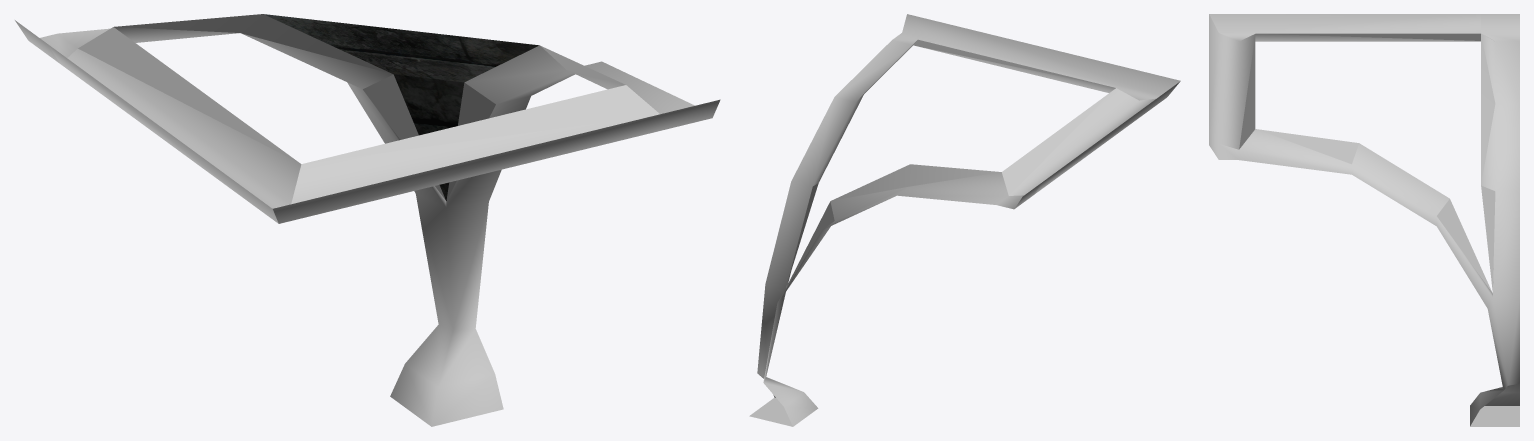
The model's file is corner_convex_short_flat.dae.
3 renders of one model, left to right at view 1: azimuth 30°, elevation 25°; view 2: azimuth 150°, elevation 25°; view 3: azimuth 270°, elevation 25°, orthographic. The views are drawn at different scales.
Parts seen in each view (by area): view 1: polySurface7, polySurface14; view 2: polySurface7; view 3: polySurface7.
Part boxes in pixels (x1=…): polySurface7: x1=15, y1=14, x2=720, y2=426; polySurface14: x1=263, y1=14, x2=539, y2=200; polySurface7: x1=749, y1=14, x2=1180, y2=426; polySurface7: x1=1209, y1=14, x2=1519, y2=426.
Bounding box in the file's own units: 2 × 2 × 2.
